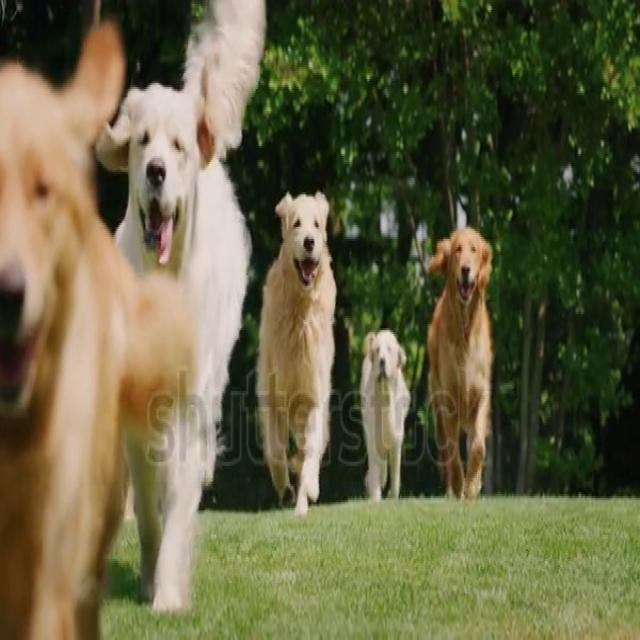normal_animals: (106, 103, 245, 535), (264, 197, 361, 552), (432, 209, 518, 537), (362, 312, 428, 515)
